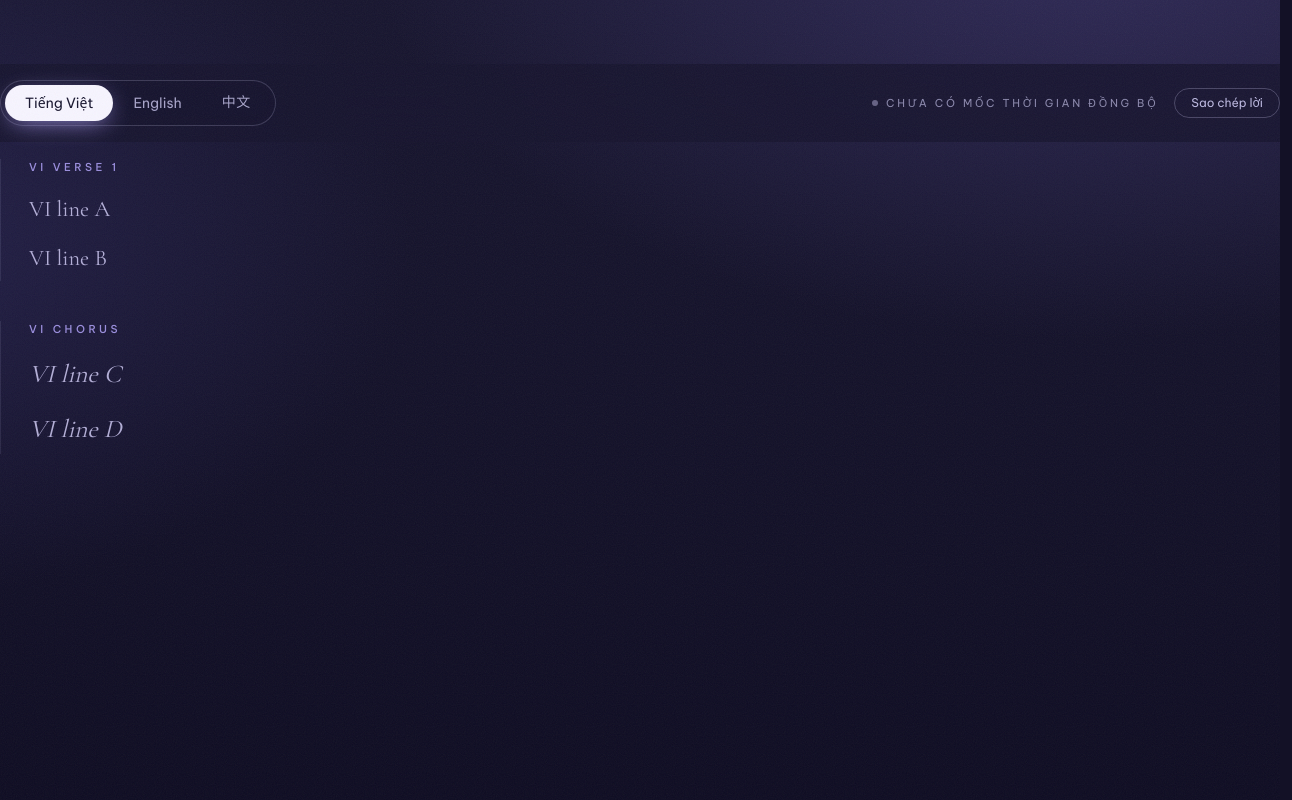
Test case: LyricsViewer language switching › renders Vietnamese first and switches to English and Chinese without reload
The image size is (1292, 800).
Expected: the text "VI line A" is shown, x1=29 y1=195 x2=110 y2=222
Click the radio button labelled "English" at (158, 103), box x1=113 y1=85 x2=202 y2=121
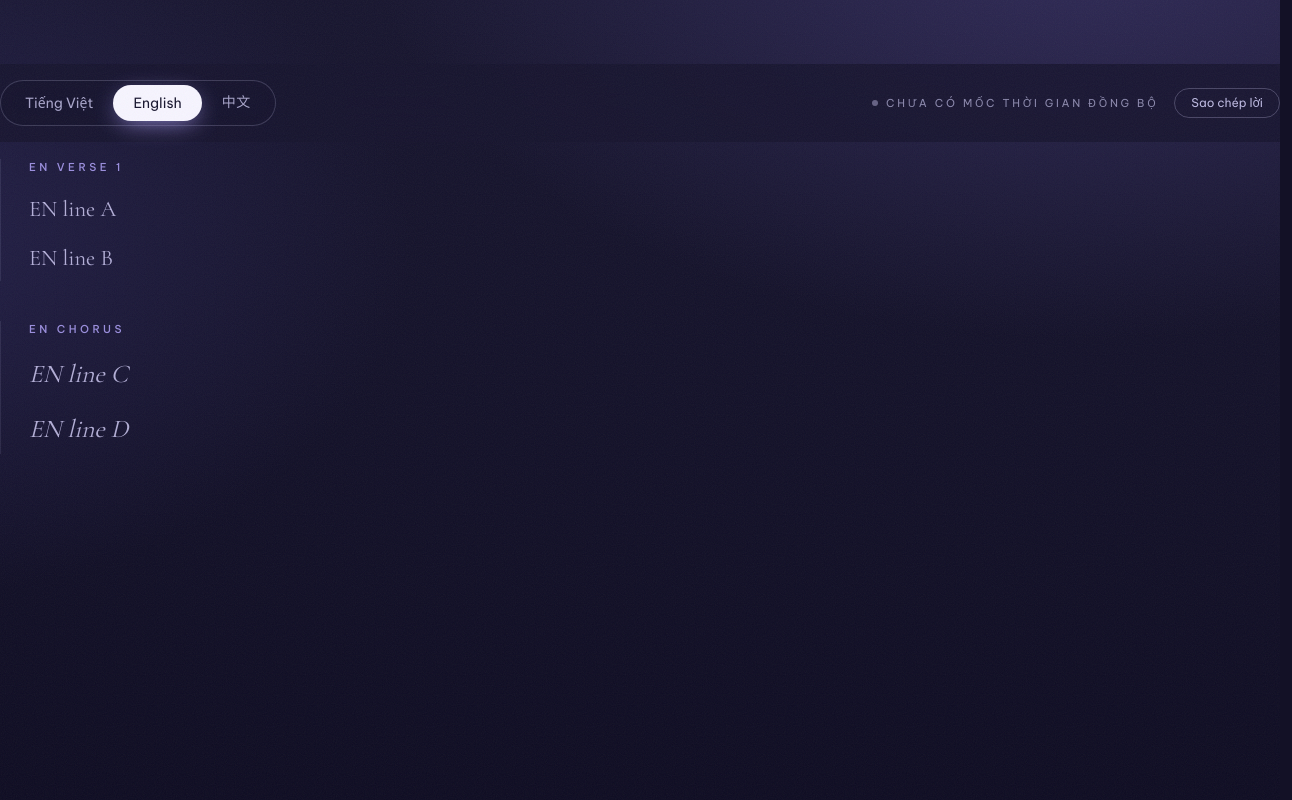
Expected: the text "EN line A" is shown, x1=29 y1=195 x2=116 y2=222
Click the radio button labelled "中文" at (236, 103), box x1=202 y1=85 x2=271 y2=121
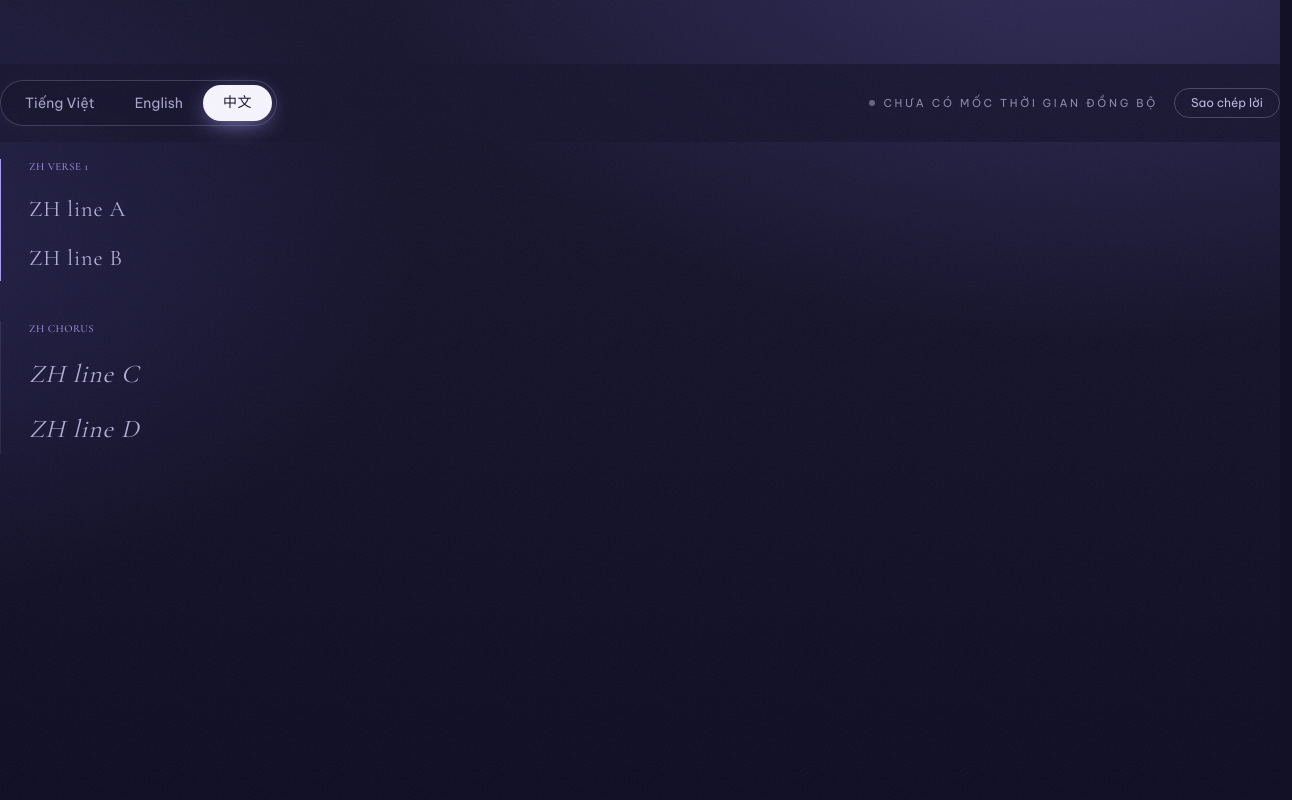
Expected: the text "ZH line A" is shown, x1=29 y1=195 x2=126 y2=222
